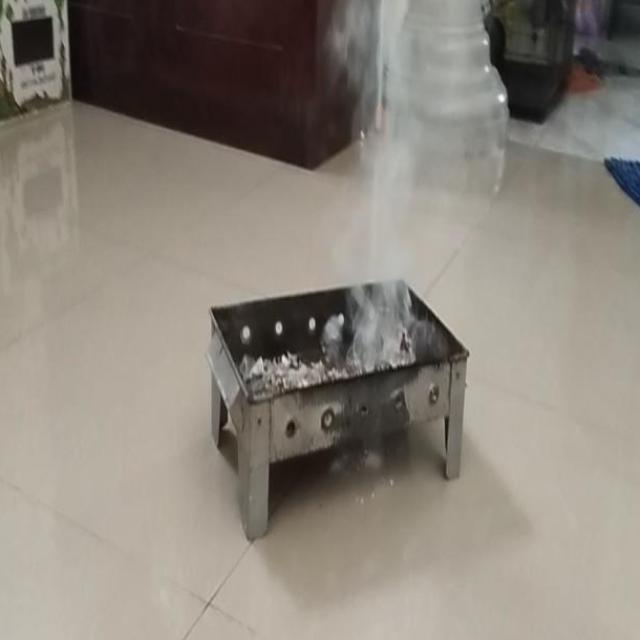fire: (342, 134, 422, 344)
